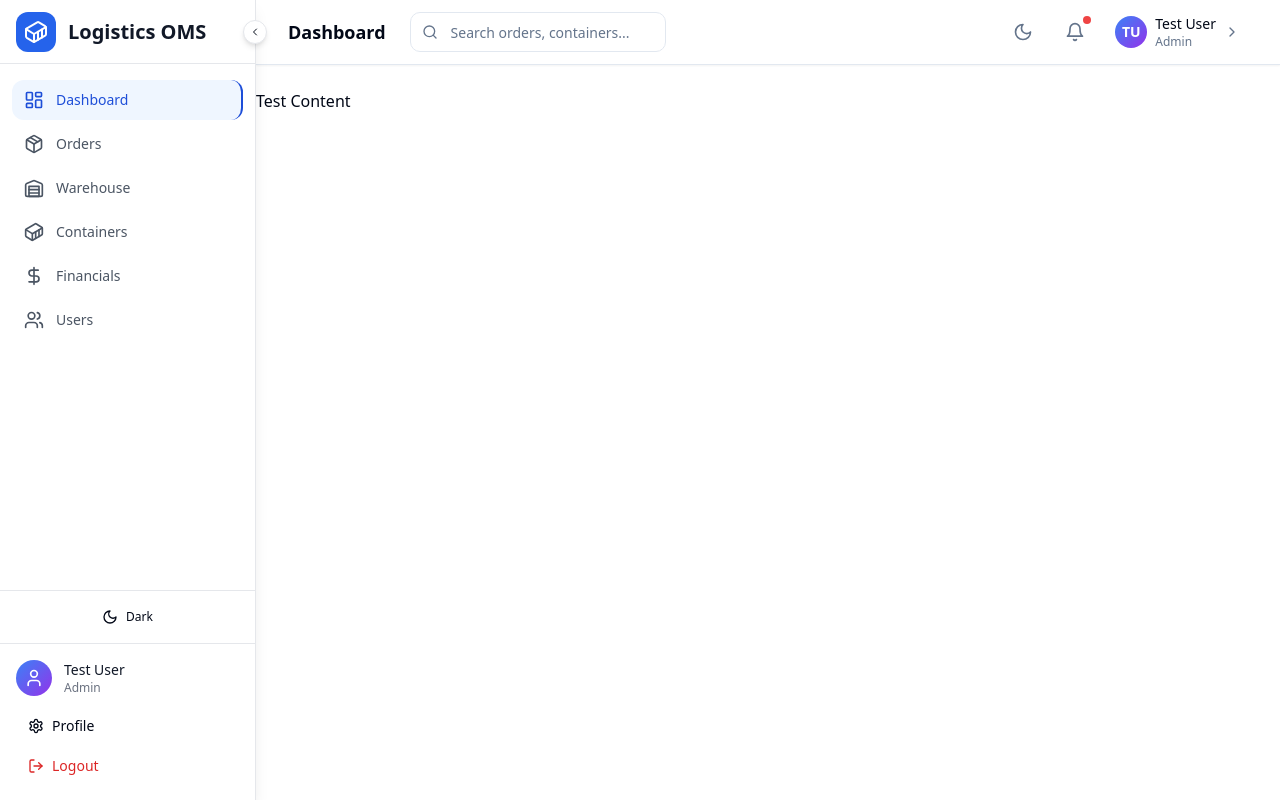
DashboardLayout Component - All Elements and Role-Based Features › User Menu Tests › opens user dropdown when avatar is clicked
Step 1. Click the button with aria-label "User menu" → click(1178, 32), box [1107,6,1248,58]
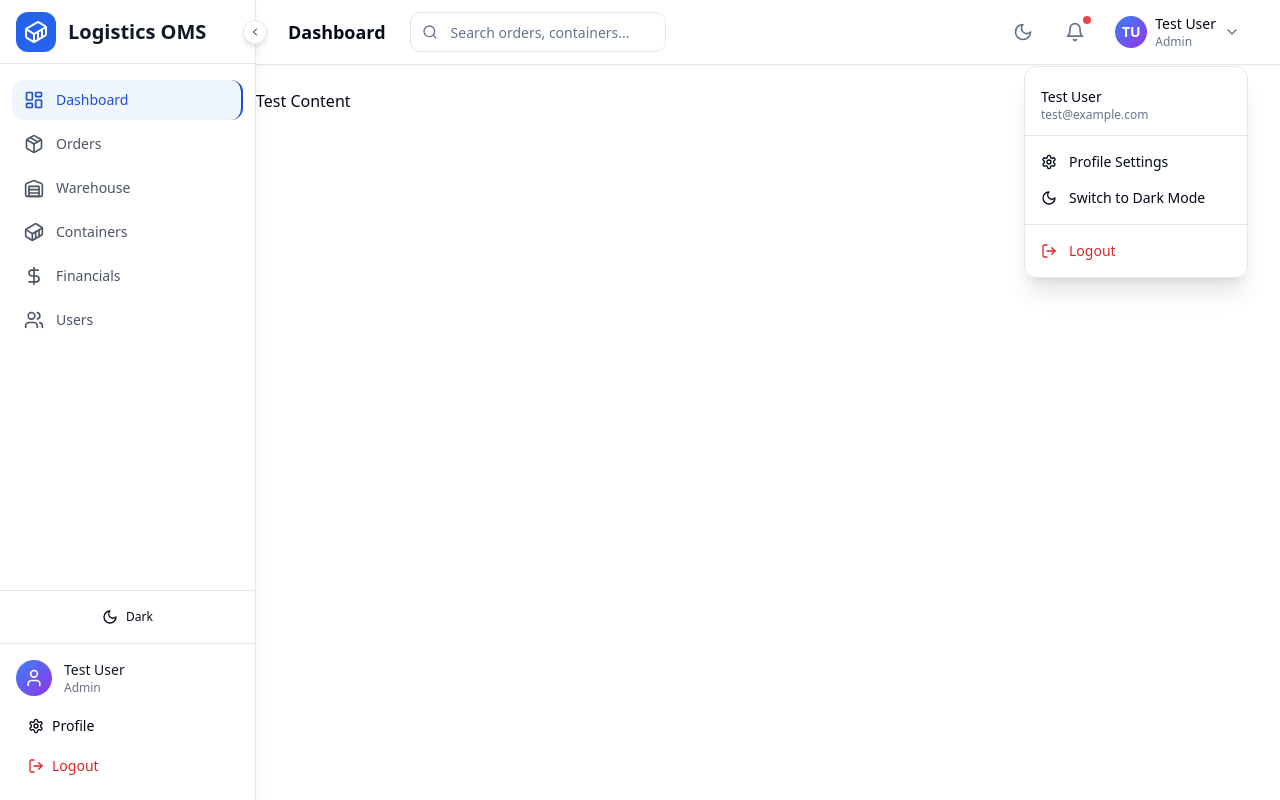
Expected: the text "Logout" is shown, [52,756,99,776]
Expected: the link "Profile Settings" is shown, [1041,152,1168,171]
